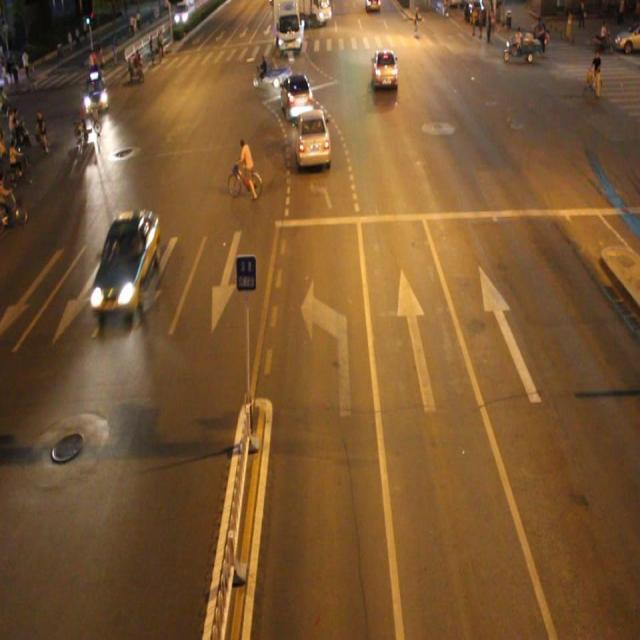car: (91, 208, 160, 318), (295, 104, 334, 164), (280, 67, 316, 119), (372, 49, 398, 91)
